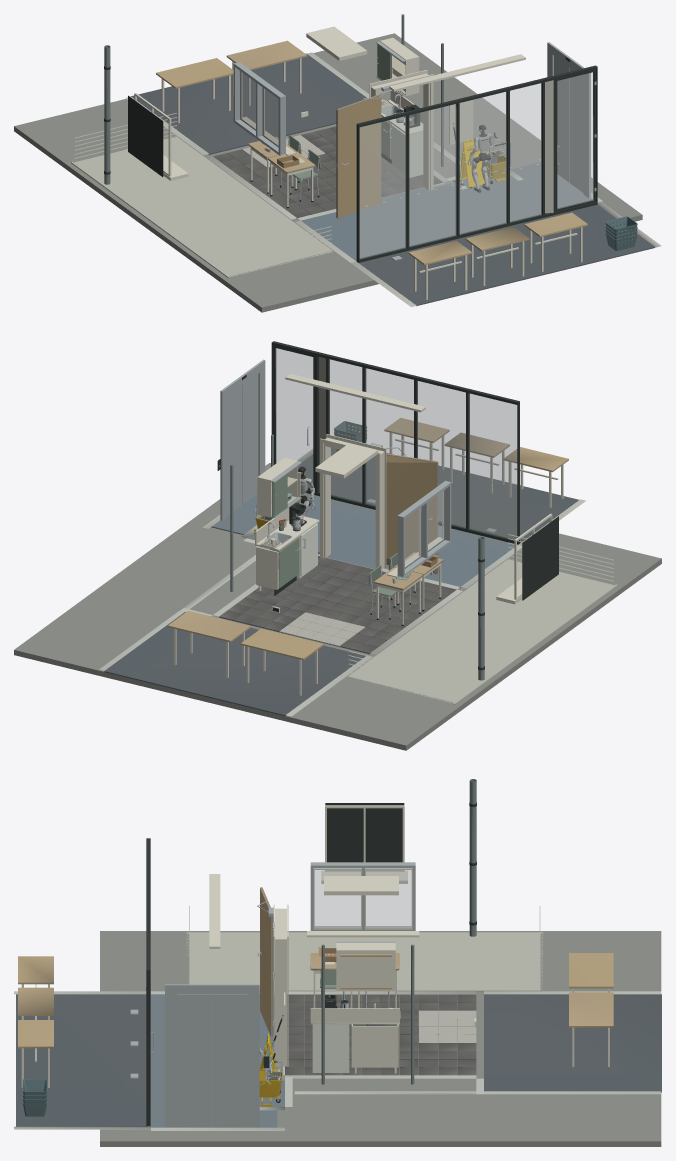
The model's file is mini.glb.
The picture shows the model from 3 angles, top to bottom: view 1: azimuth 30°, elevation 25°; view 2: azimuth 150°, elevation 25°; view 3: azimuth 270°, elevation 25°; orthographic projection. The views are drawn at different scales.
Parts seen in each view (by area): view 1: part/env_brewer/brewer_toggle, part/env_kitchen/fridge_shelf_0, part/env_floor/office_carpet, part/env_floor/pressed_tiles, part/sign/sign_rear_panel; view 2: part/env_brewer/brewer_toggle, part/env_floor/office_carpet, part/env_kitchen/fridge_shelf_0, part/env_floor/pressed_tiles; view 3: part/env_brewer/brewer_toggle, part/env_floor/office_carpet, part/env_floor/pressed_tiles, part/env_kitchen/fridge_shelf_0, part/bucket/bucket_tub.
Part boxes in pixels (x1,y1,x2,y2): part/env_brewer/brewer_toggle: [14, 14, 642, 312]; part/env_kitchen/fridge_shelf_0: [240, 71, 593, 258]; part/env_floor/office_carpet: [126, 52, 661, 307]; part/env_floor/pressed_tiles: [213, 126, 442, 218]; part/sign/sign_rear_panel: [464, 139, 484, 187]; part/env_brewer/brewer_toggle: [14, 341, 661, 750]; part/env_floor/office_carpet: [99, 447, 585, 716]; part/env_kitchen/fridge_shelf_0: [275, 348, 516, 568]; part/env_floor/pressed_tiles: [219, 556, 456, 653]; part/env_brewer/brewer_toggle: [18, 779, 661, 1146]; part/env_floor/office_carpet: [14, 889, 661, 1130]; part/env_floor/pressed_tiles: [285, 994, 476, 1075]; part/env_kitchen/fridge_shelf_0: [315, 870, 411, 927]; part/bucket/bucket_tub: [259, 1071, 281, 1106].
Size of the model in its own units: 7.8 by 2.82 by 10.16.
11 materials, 11 textured.
